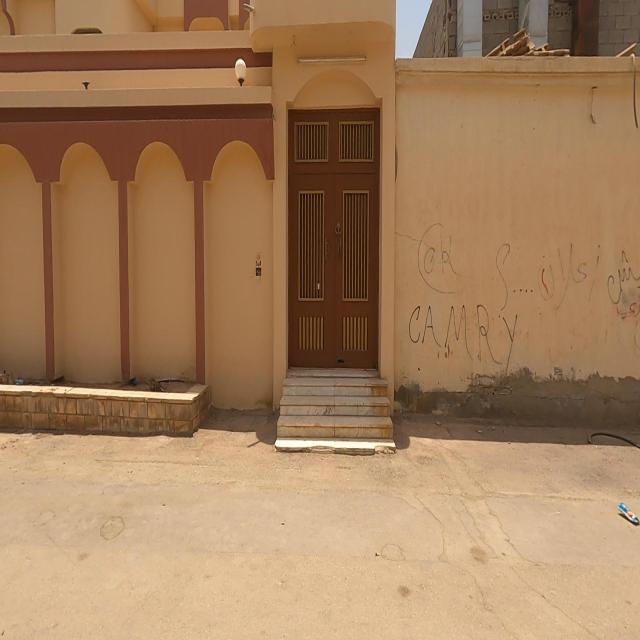Graffiti: (411, 223, 640, 374)
